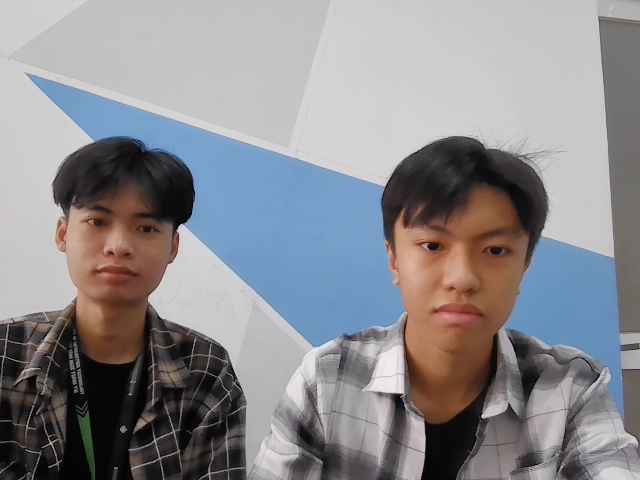human: (382, 135, 549, 346), (54, 135, 195, 308)
